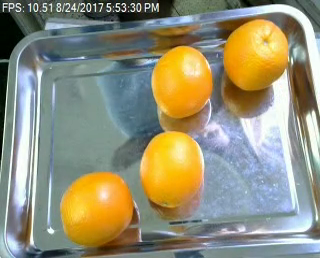Orange: (60, 171, 133, 247), (138, 130, 203, 208), (222, 18, 290, 90), (149, 44, 212, 117)
